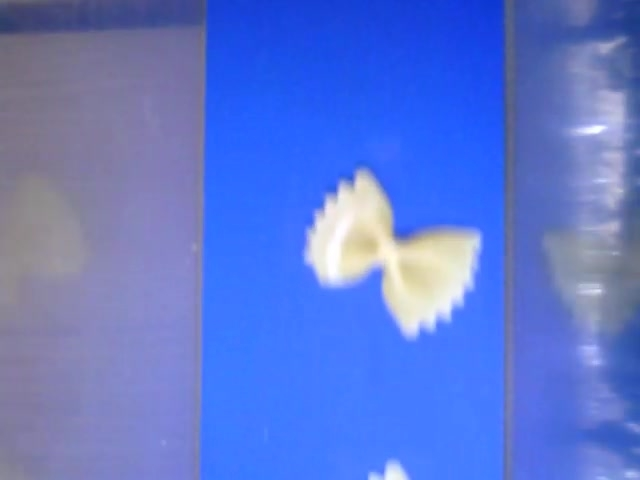farfalle: (304, 170, 482, 337)
